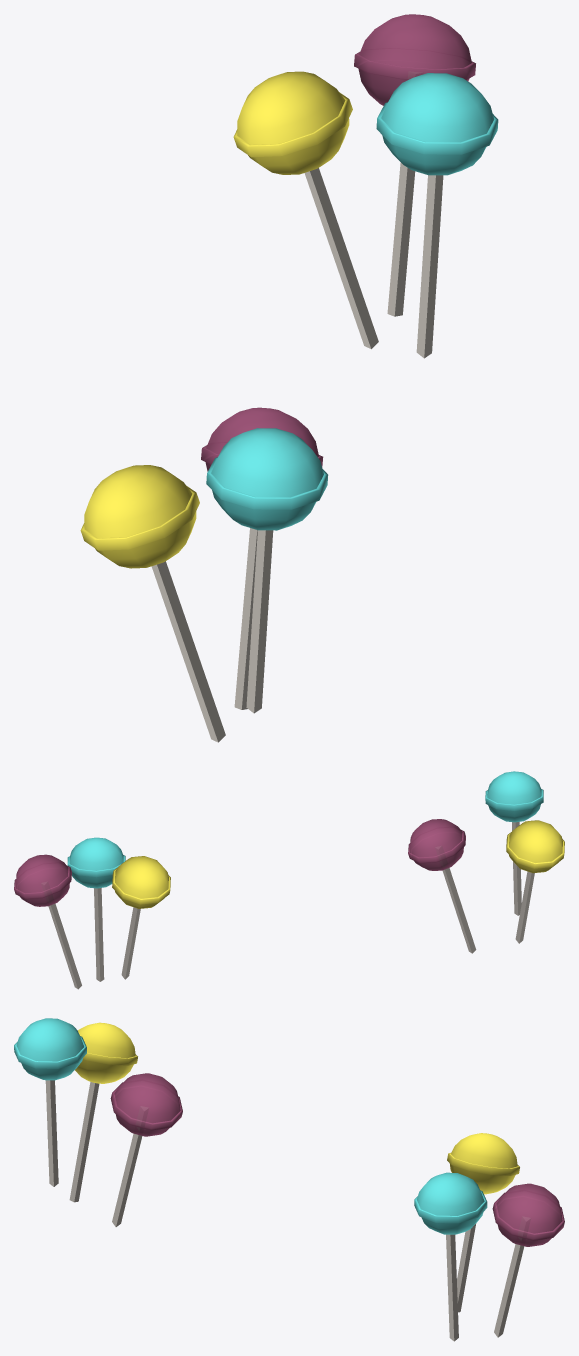
The model's file is lollipops.glb.
The picture shows the model from 3 angles, top to bottom: view 1: azimuth 30°, elevation 25°; view 2: azimuth 150°, elevation 25°; view 3: azimuth 270°, elevation 25°; orthographic projection. The views are drawn at different scales.
Parts seen in each view (by area): view 1: lollipop6.001, lollipop6, lollipop5, lollipop5.001, lollipop7, lollipop7.001; view 2: lollipop7.001, lollipop7, lollipop5, lollipop5.001, lollipop6, lollipop6.001; view 3: lollipop6.001, lollipop6, lollipop7.001, lollipop7, lollipop5.001, lollipop5.
Part boxes in pixels (x1,y1,x2,y2): lollipop6.001: [206, 428, 328, 713]; lollipop6: [376, 73, 498, 358]; lollipop5: [233, 71, 378, 349]; lollipop5.001: [80, 465, 225, 742]; lollipop7: [354, 14, 475, 316]; lollipop7.001: [201, 407, 323, 709]; lollipop7.001: [408, 819, 476, 953]; lollipop7: [14, 854, 81, 989]; lollipop5: [112, 856, 170, 979]; lollipop5.001: [506, 820, 564, 943]; lollipop6: [67, 837, 125, 981]; lollipop6.001: [485, 771, 543, 915]; lollipop6.001: [14, 1018, 86, 1186]; lollipop6: [414, 1172, 487, 1341]; lollipop7.001: [110, 1073, 182, 1226]; lollipop7: [492, 1183, 564, 1337]; lollipop5.001: [69, 1022, 137, 1202]; lollipop5: [447, 1133, 519, 1312].
Bounding box in the file's own units: 30.24 × 12.76 × 32.71.
